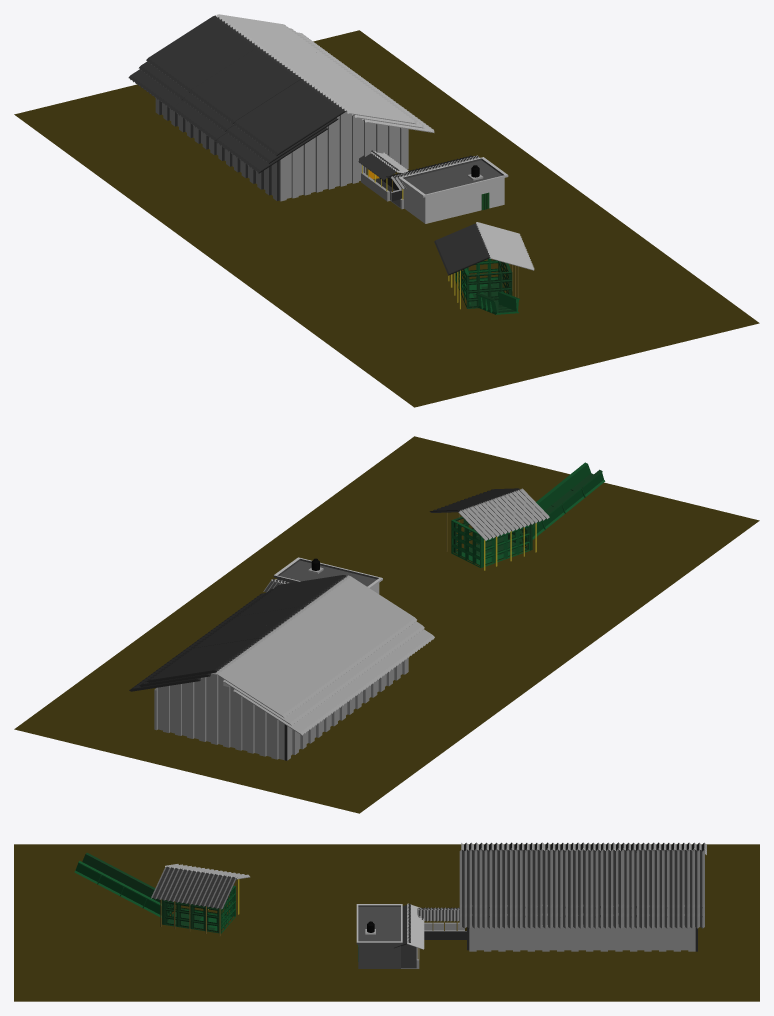
The model's file is Cuarentena.glb.
The picture shows the model from 3 angles, top to bottom: view 1: azimuth 30°, elevation 25°; view 2: azimuth 150°, elevation 25°; view 3: azimuth 270°, elevation 25°; orthographic projection. The views are drawn at different scales.
Parts seen in each view (by area): view 1: Plane.025, Cube, Cube.003, Plane.015, Plane.012, Plane.009, Plane, Plane.003, Plane.006, Plane.019, Plane.020, Plane.026 (+7 smaller); view 2: Plane.025, Cube, Plane.012, Plane.009, Plane.015, Plane.019, Plane.024, Plane.006, Plane.003, Plane, Cube.003, Plane.021 (+7 smaller); view 3: Plane.025, Cube, Plane.003, Plane, Plane.006, Cube.003, Plane.020, Plane.024, Plane.021, Plane.026, Plane.005, Plane.008 (+11 smaller).
Boxes of the visible parts, x1,y1,x2,y2 form: Plane.025: (14, 30, 759, 407); Cube: (155, 32, 408, 201); Cube.003: (398, 157, 508, 223); Plane.015: (233, 79, 345, 156); Plane.012: (190, 47, 301, 124); Plane.009: (146, 15, 257, 92); Plane: (305, 80, 416, 124); Plane.003: (260, 46, 372, 89); Plane.006: (216, 14, 326, 55); Plane.019: (434, 223, 490, 275); Plane.020: (476, 222, 534, 270); Plane.026: (358, 150, 408, 201); Plane.025: (14, 436, 759, 813); Cube: (154, 581, 408, 760); Plane.012: (259, 607, 373, 686); Plane.009: (215, 641, 327, 718); Plane.015: (305, 575, 416, 652); Plane.019: (458, 488, 549, 540); Plane.024: (509, 462, 605, 544); Plane.006: (147, 638, 259, 682); Plane.003: (193, 606, 302, 648); Plane: (234, 575, 347, 617); Cube.003: (273, 557, 382, 593); Plane.021: (454, 516, 530, 567); Plane.025: (14, 844, 759, 1001); Cube: (467, 849, 697, 951); Plane.003: (540, 849, 623, 908); Plane: (459, 849, 542, 908); Plane.006: (622, 849, 704, 908); Cube.003: (356, 904, 402, 968); Plane.020: (151, 866, 237, 909); Plane.024: (74, 852, 173, 917); Plane.021: (164, 890, 233, 933); Plane.026: (417, 907, 466, 939); Plane.005: (540, 915, 623, 928); Plane.008: (621, 915, 704, 928).
Size of the model in its own units: 32.85 by 7.19 by 65.94.
